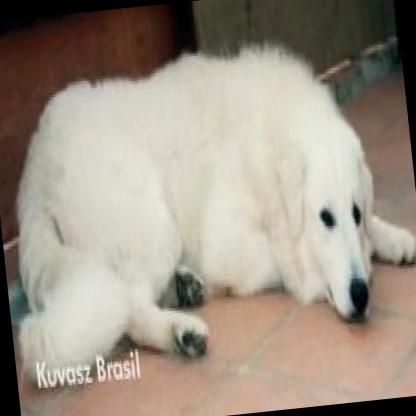kuvasz: (0, 14, 416, 384)
